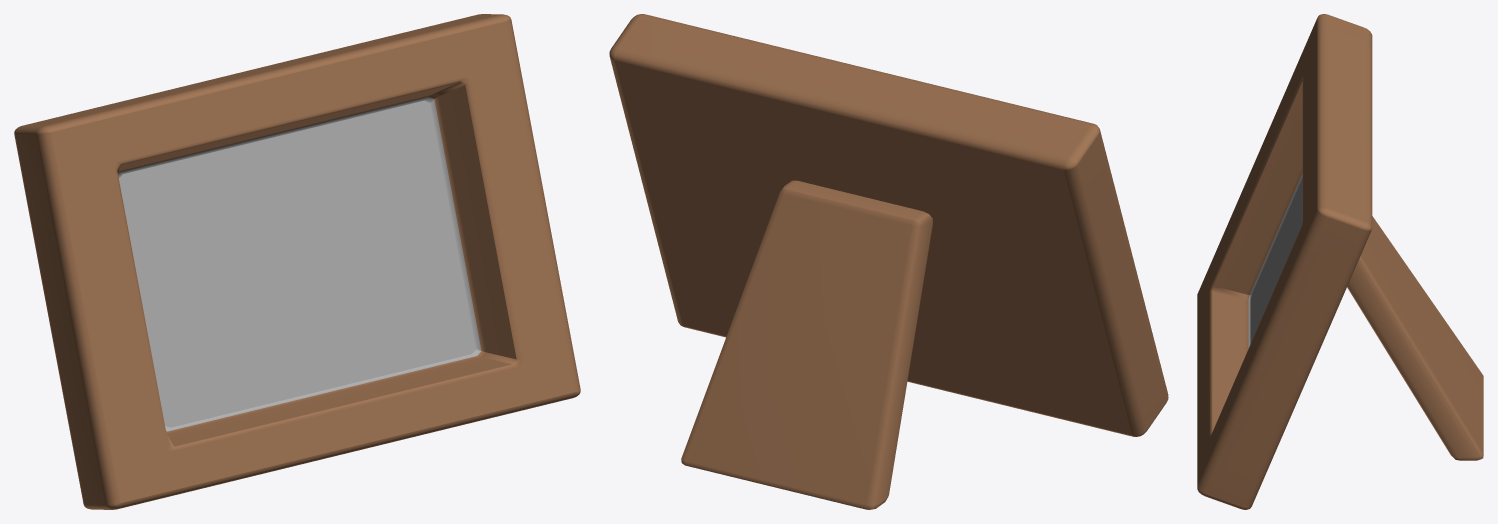
File: SM_Altar_FrameShort.fbx
3 views of the same model, side by side, from view 1: azimuth 30°, elevation 25°; view 2: azimuth 150°, elevation 25°; view 3: azimuth 270°, elevation 25° (orthographic). The views are drawn at different scales.
Parts seen in each view (by area): view 1: frameLanscape; view 2: frameLanscape, frameStand_Landscape; view 3: frameLanscape, frameStand_Landscape.
Part boxes in pixels (bbox=[...]): frameLanscape: bbox=[14, 14, 580, 509]; frameLanscape: bbox=[609, 14, 1168, 436]; frameStand_Landscape: bbox=[681, 180, 932, 509]; frameLanscape: bbox=[1197, 14, 1372, 509]; frameStand_Landscape: bbox=[1347, 216, 1483, 460].
Size of the model in its own units: 145 by 105 by 87.58.
